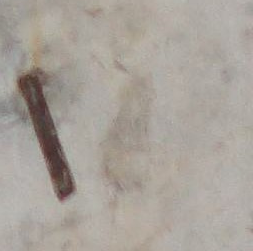Exposed reinforcement: (17, 74, 77, 203)
